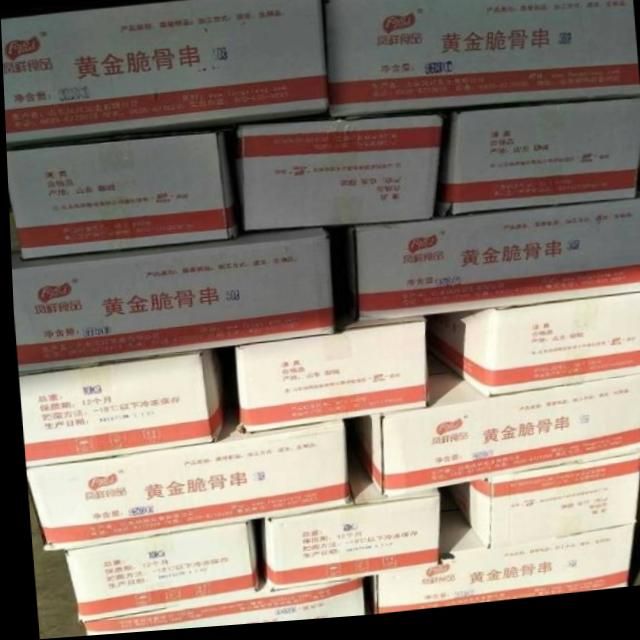box: (7, 209, 333, 374), (1, 0, 327, 147), (354, 347, 640, 504), (22, 420, 343, 549), (321, 0, 638, 120), (350, 207, 640, 321), (364, 496, 633, 616), (5, 126, 241, 258), (237, 115, 440, 235), (16, 351, 221, 466), (420, 299, 640, 405), (256, 463, 435, 589), (435, 107, 638, 217), (232, 319, 426, 434), (443, 452, 639, 555), (54, 520, 250, 619), (73, 580, 359, 637)
